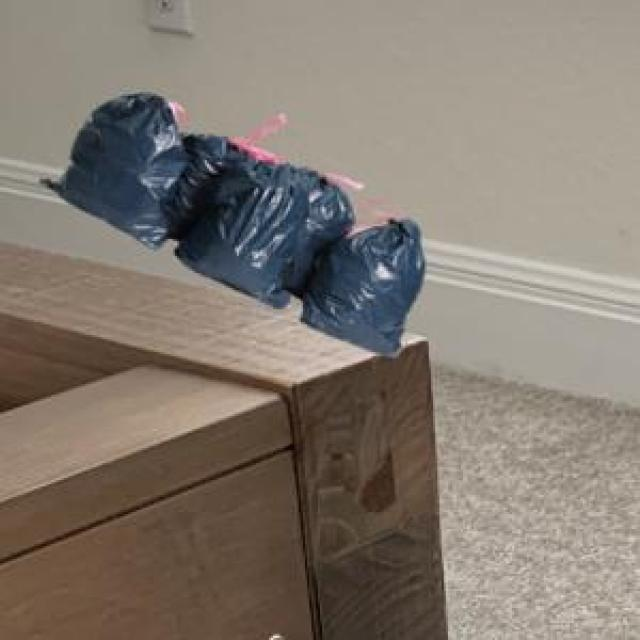garbage_bag: (43, 86, 429, 357)
